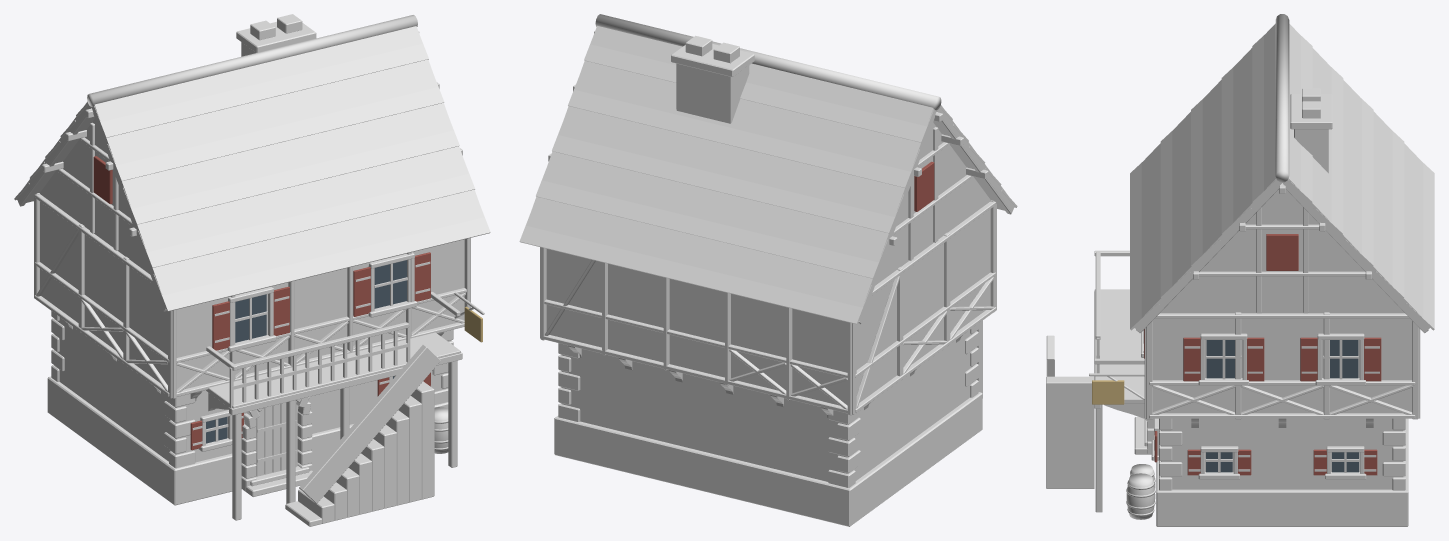
File: col_23_taverne_balcon.fbx
The picture shows the model from 3 angles, left to right: view 1: azimuth 30°, elevation 25°; view 2: azimuth 150°, elevation 25°; view 3: azimuth 270°, elevation 25°; orthographic projection. The views are drawn at different scales.
Parts seen in each view (by area): view 1: col_23_taverne_balcon_LOD0; view 2: col_23_taverne_balcon_LOD0; view 3: col_23_taverne_balcon_LOD0.
Boxes of the visible parts, x1=… form: col_23_taverne_balcon_LOD0: x1=14, y1=14, x2=490, y2=526; col_23_taverne_balcon_LOD0: x1=519, y1=14, x2=1017, y2=526; col_23_taverne_balcon_LOD0: x1=1046, y1=14, x2=1434, y2=526.
Size of what is drawn, in the model's own units: 8.44 by 9.31 by 8.65.
